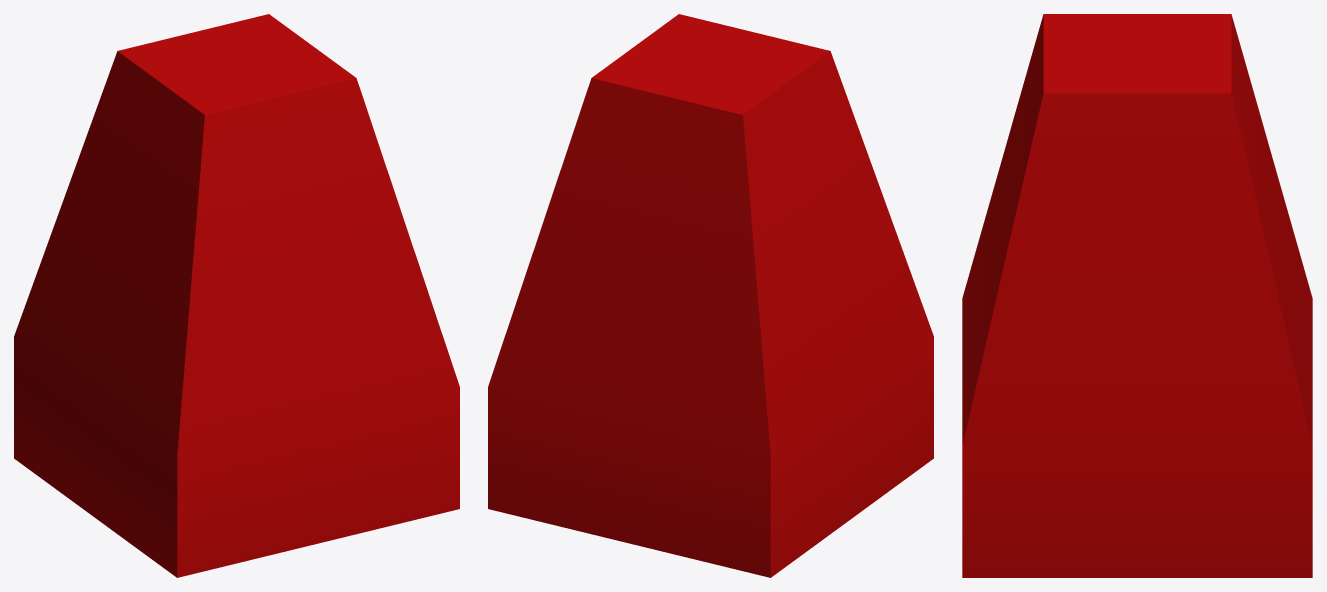
3 views of the same model, side by side, from view 1: azimuth 30°, elevation 25°; view 2: azimuth 150°, elevation 25°; view 3: azimuth 270°, elevation 25° (orthographic). The views are drawn at different scales.
Parts seen in each view (by area): view 1: pCube1; view 2: pCube1; view 3: pCube1.
Part boxes in pixels (x1,y1,x2,y2): pCube1: (14,14,459,577); pCube1: (488,14,933,577); pCube1: (962,14,1312,577).
Bounding box in the file's own units: 0.6273 × 0.8889 × 0.6273.
